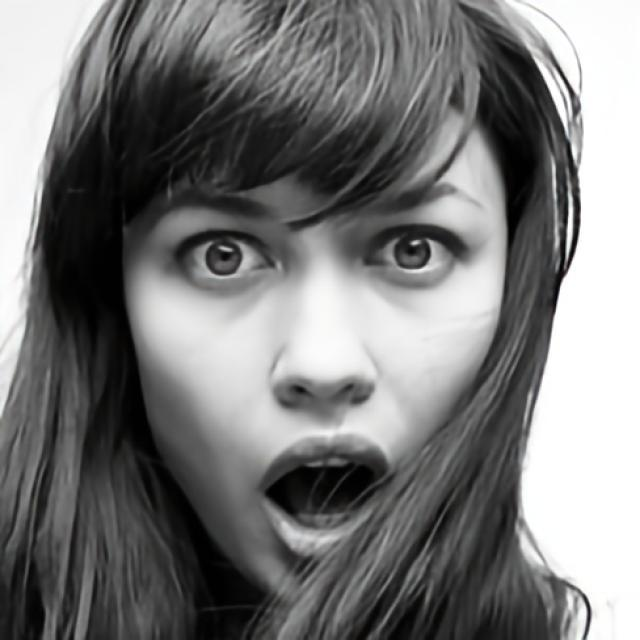fear: (120, 81, 512, 606)
